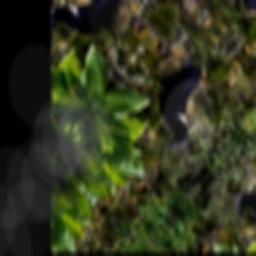Crow: (126, 42, 229, 157)
